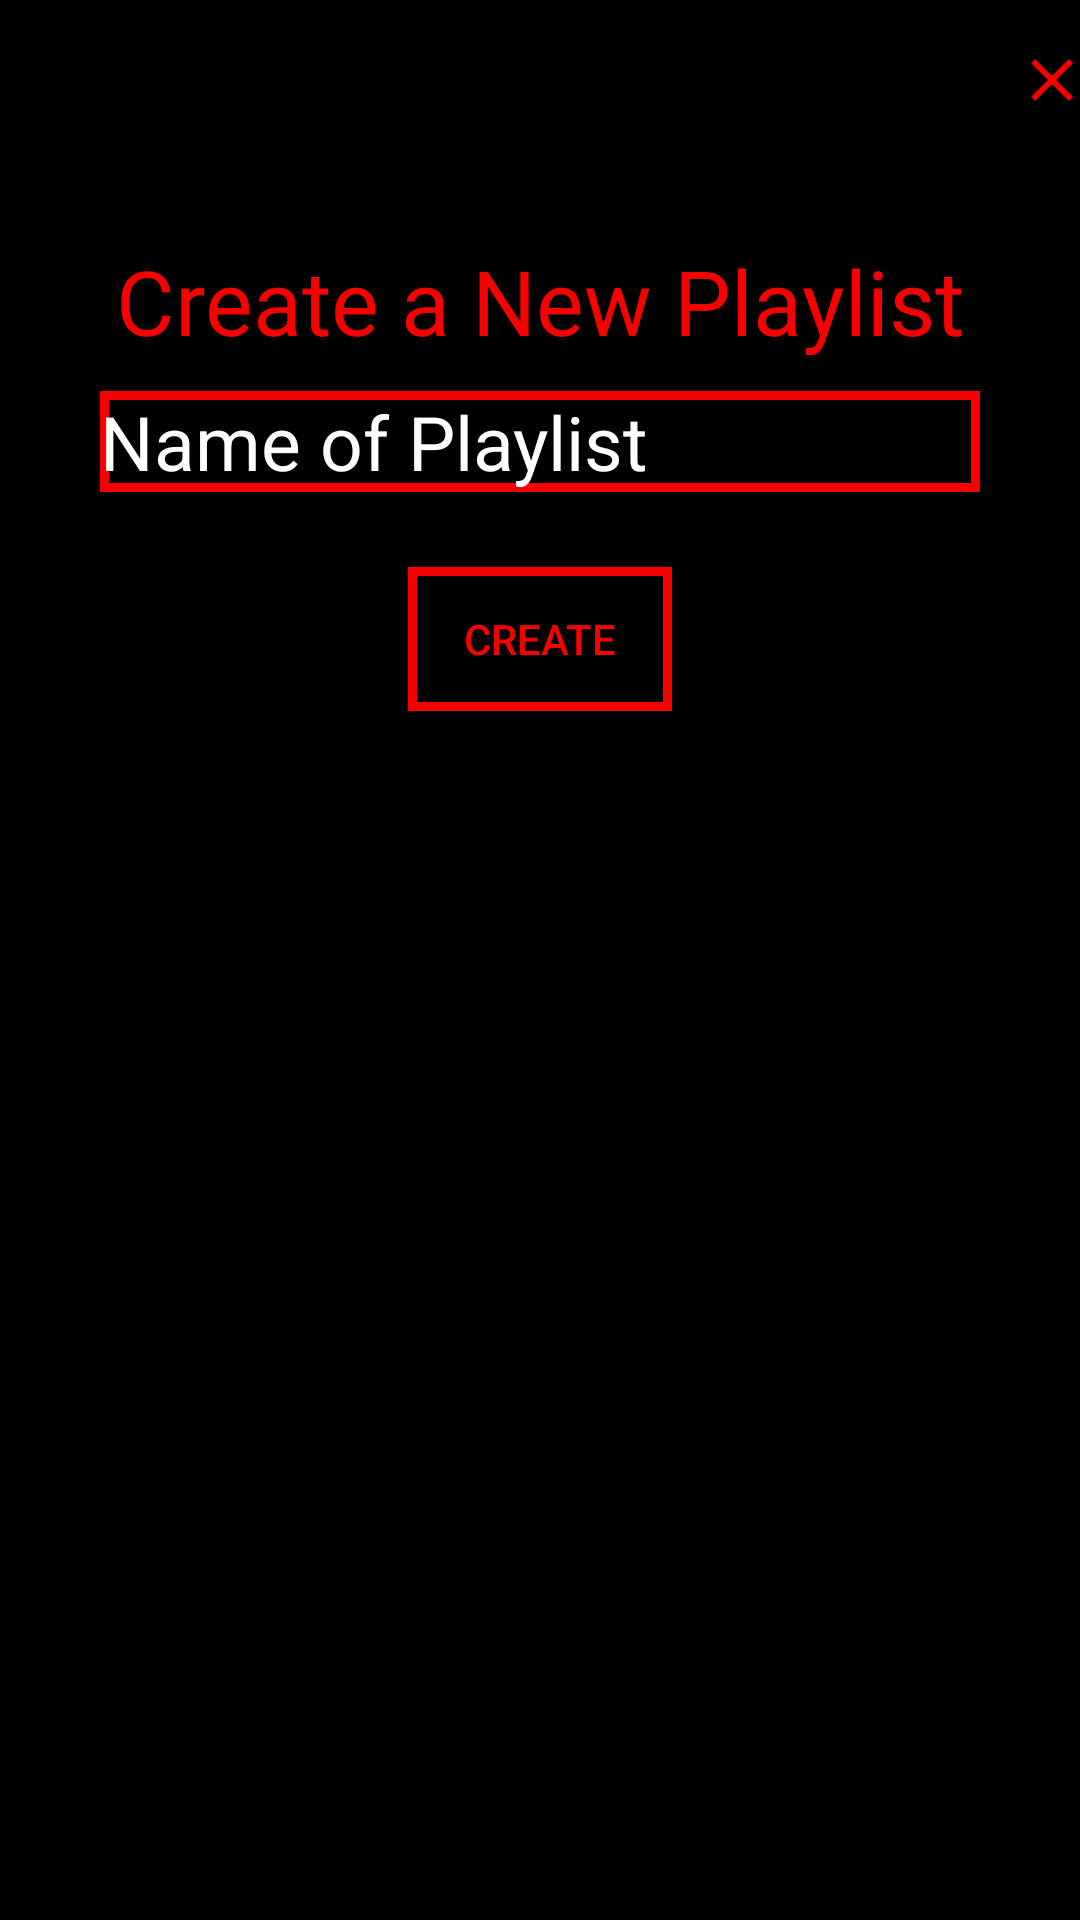

Screen size 1080 x 1920. Icon name, then its box in pixels as bbox=[x1, y1, x2, y2]:
close: bbox=[1031, 59, 1073, 101]
